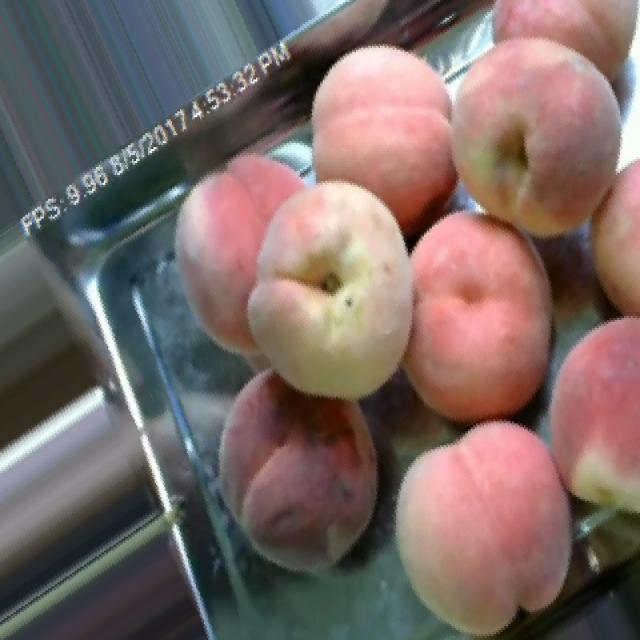Fruit: (183, 134, 420, 426), (357, 391, 610, 640), (418, 0, 640, 266), (188, 352, 412, 598), (393, 189, 578, 457), (276, 16, 471, 252), (541, 296, 640, 545)
